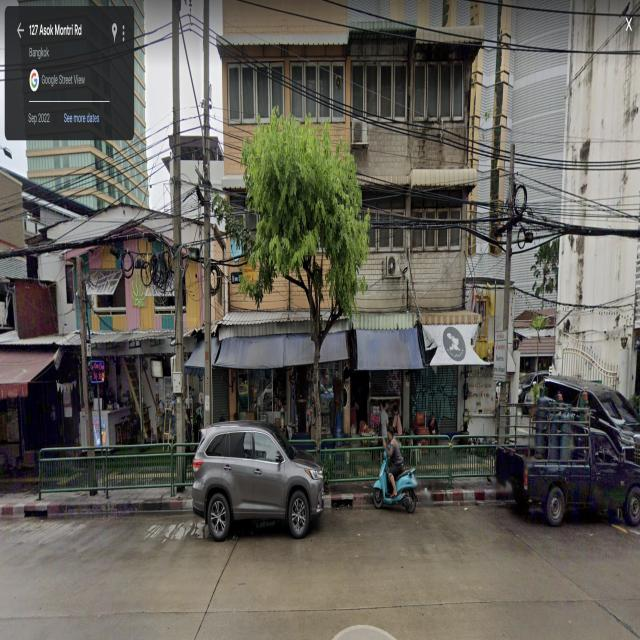tree: (236, 111, 376, 456)
